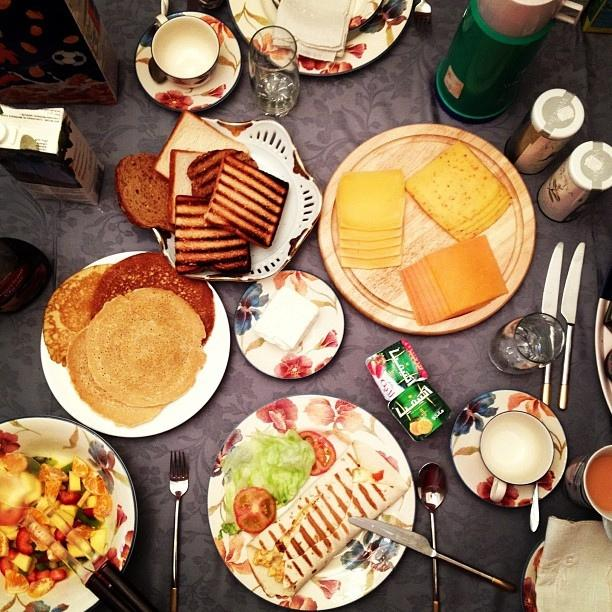tomato: (233, 486, 276, 534), (298, 431, 336, 476)
